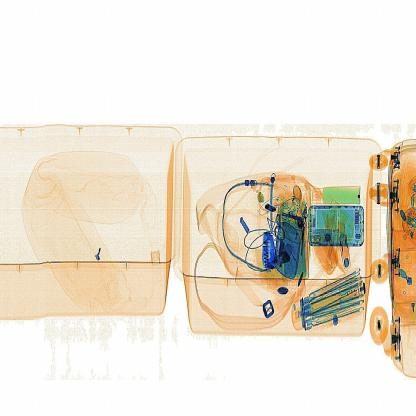scissors: (256, 224, 281, 270)
